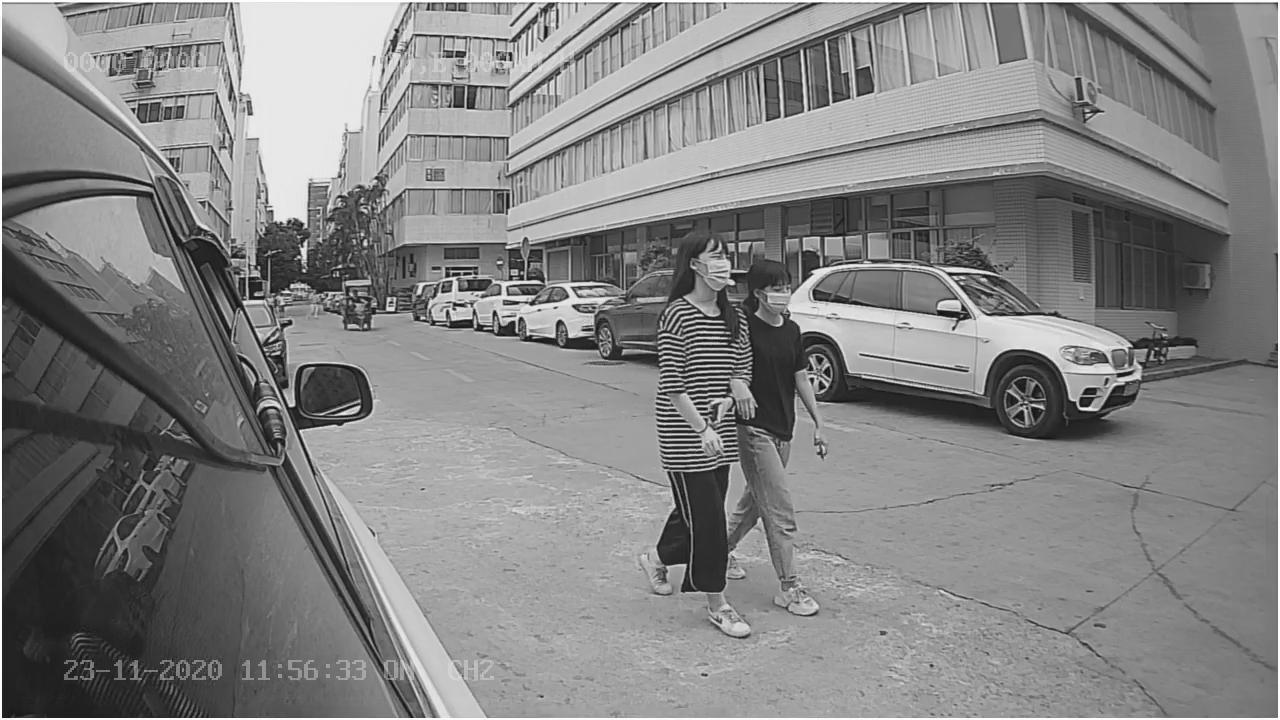person: (641, 228, 759, 639), (723, 257, 826, 618)
